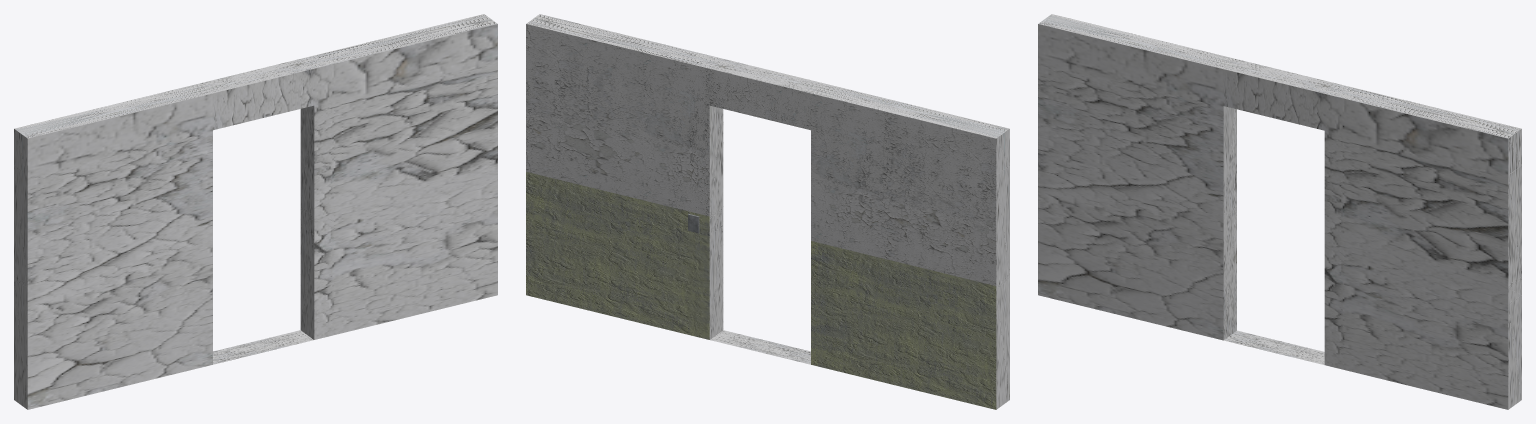
The model's file is front_start_wall.glb.
3 renders of one model, left to right at view 1: azimuth 30°, elevation 25°; view 2: azimuth 150°, elevation 25°; view 3: azimuth 330°, elevation 25°, orthographic.
Visible parts, largest first — view 1: Cube; view 2: Cube; view 3: Cube.
Part boxes in pixels (bbox=[...]): Cube: bbox=[14, 14, 497, 409]; Cube: bbox=[526, 14, 1009, 409]; Cube: bbox=[1038, 14, 1521, 409].
Size of the model in its own units: 39.93 by 22.02 by 2.13.
3 materials, 3 textured.
